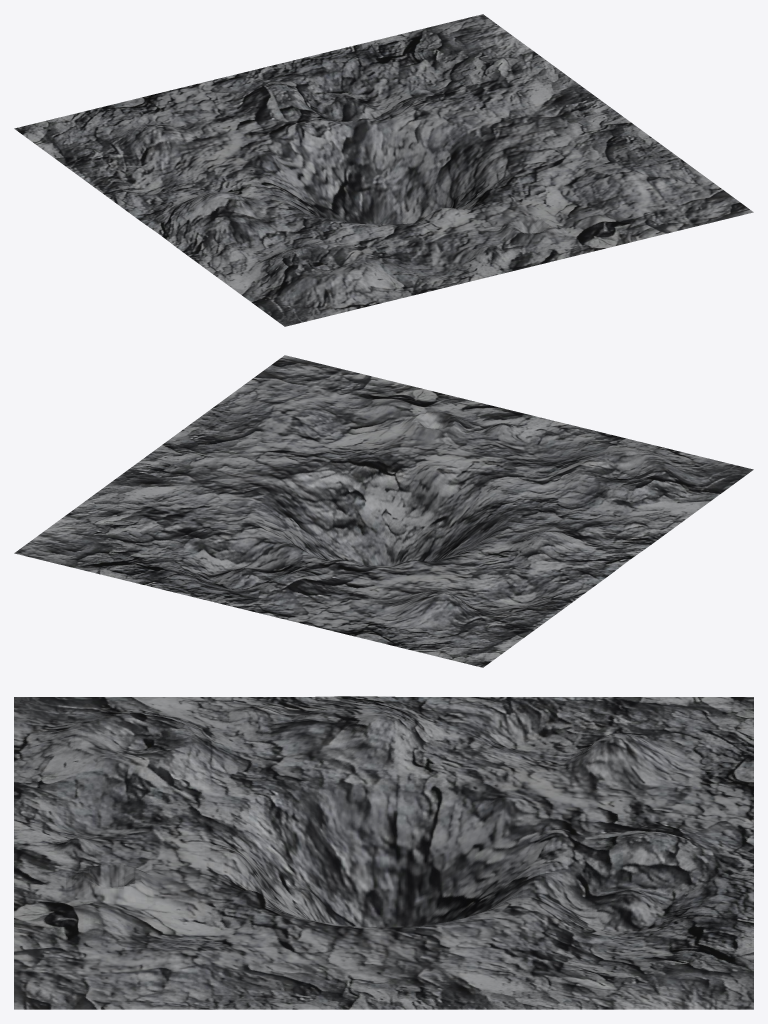
Rendered from moon.obj.
3 views of the same model, one above another, from view 1: azimuth 30°, elevation 25°; view 2: azimuth 150°, elevation 25°; view 3: azimuth 270°, elevation 25° (orthographic). The views are drawn at different scales.
Parts seen in each view (by area): view 1: 平面; view 2: 平面; view 3: 平面.
Boxes of the visible parts, x1=… form: 平面: x1=14, y1=14, x2=753, y2=326; 平面: x1=14, y1=355, x2=753, y2=667; 平面: x1=14, y1=696, x2=753, y2=1009.
Size of the model in its own units: 2 by 0.4005 by 2.
1 material, 1 textured.
